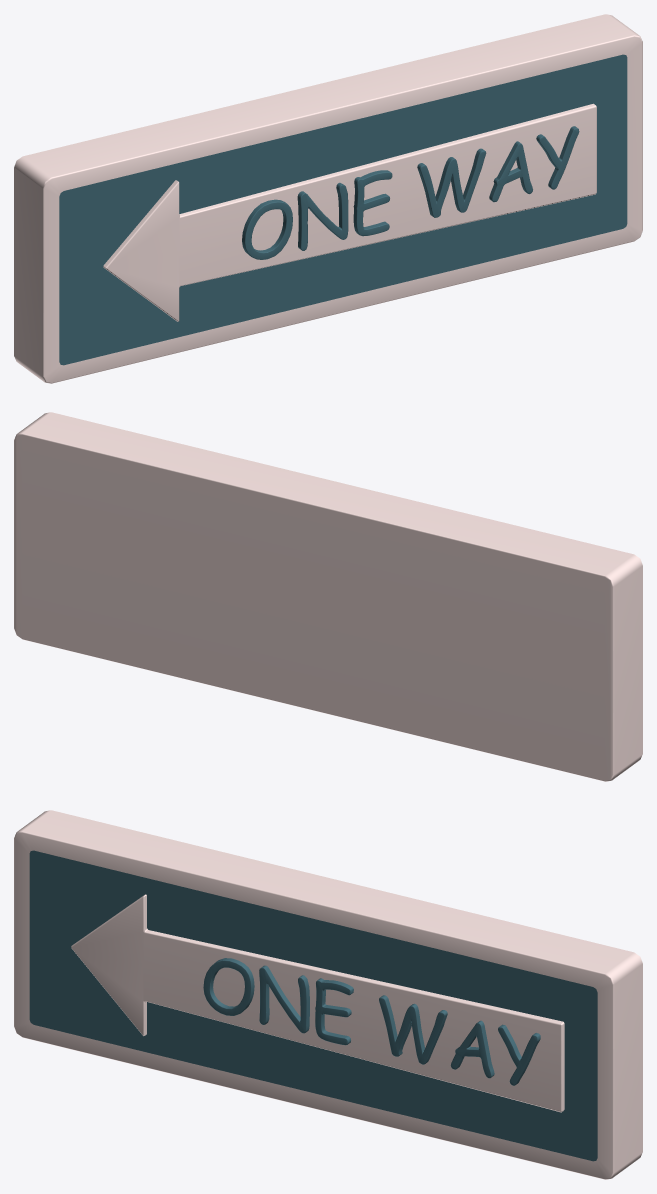
File: City_7_Sign_1.glb
The picture shows the model from 3 angles, top to bottom: view 1: azimuth 30°, elevation 25°; view 2: azimuth 150°, elevation 25°; view 3: azimuth 330°, elevation 25°; orthographic projection.
Parts seen in each view (by area): view 1: City_7_Sign_1; view 2: City_7_Sign_1; view 3: City_7_Sign_1.
Part boxes in pixels (x1,y1,x2,y2): City_7_Sign_1: [14, 14, 642, 383]; City_7_Sign_1: [14, 412, 642, 781]; City_7_Sign_1: [14, 810, 642, 1179].
Size of the model in its own units: 0.8705 by 0.2862 by 0.0901.
1 material, 1 textured.
